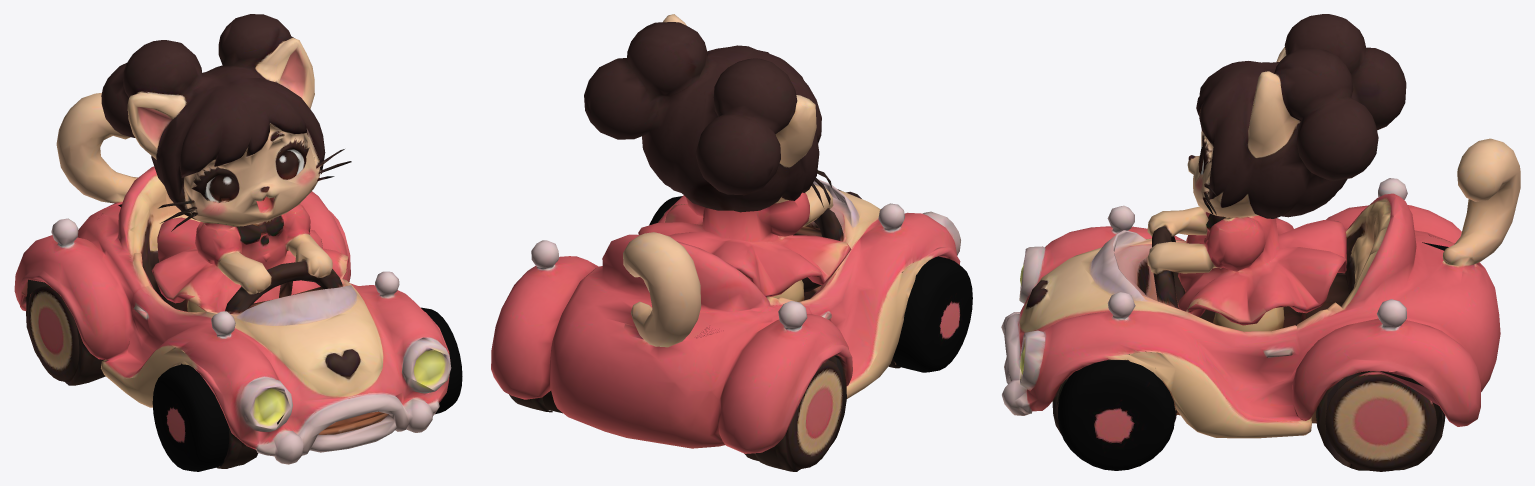
Rendered from kart_bunny_r13a.glb.
3 renders of one model, left to right at view 1: azimuth 30°, elevation 25°; view 2: azimuth 150°, elevation 25°; view 3: azimuth 270°, elevation 25°, orthographic. The views are drawn at different scales.
Parts seen in each view (by area): view 1: chassis, Head, wheel_FR, Wob_Tail, wheel_RR, wheel_FL; view 2: chassis, Head, Wob_Tail, wheel_FR, wheel_RR; view 3: chassis, Head, wheel_FL, wheel_RL, Wob_Tail.
Part boxes in pixels (x1,y1,x2,y2): chassis: (14,166,451,468); Head: (101,14,351,230); wheel_FR: (152,364,228,471); Wob_Tail: (56,93,137,219); wheel_RR: (28,286,79,382); wheel_FL: (421,307,462,414); chassis: (491,179,960,471); Head: (584,14,831,212); Wob_Tail: (623,232,723,347); wheel_FR: (893,256,972,372); wheel_RR: (744,360,843,468); chassis: (1001,178,1500,470); Head: (1187,14,1406,231); wheel_FL: (1058,360,1175,470); wheel_RL: (1325,371,1436,471); Wob_Tail: (1421,138,1520,263).
Size of the model in its own units: 1.54 by 1.79 by 2.26.
1 material, 1 textured.
